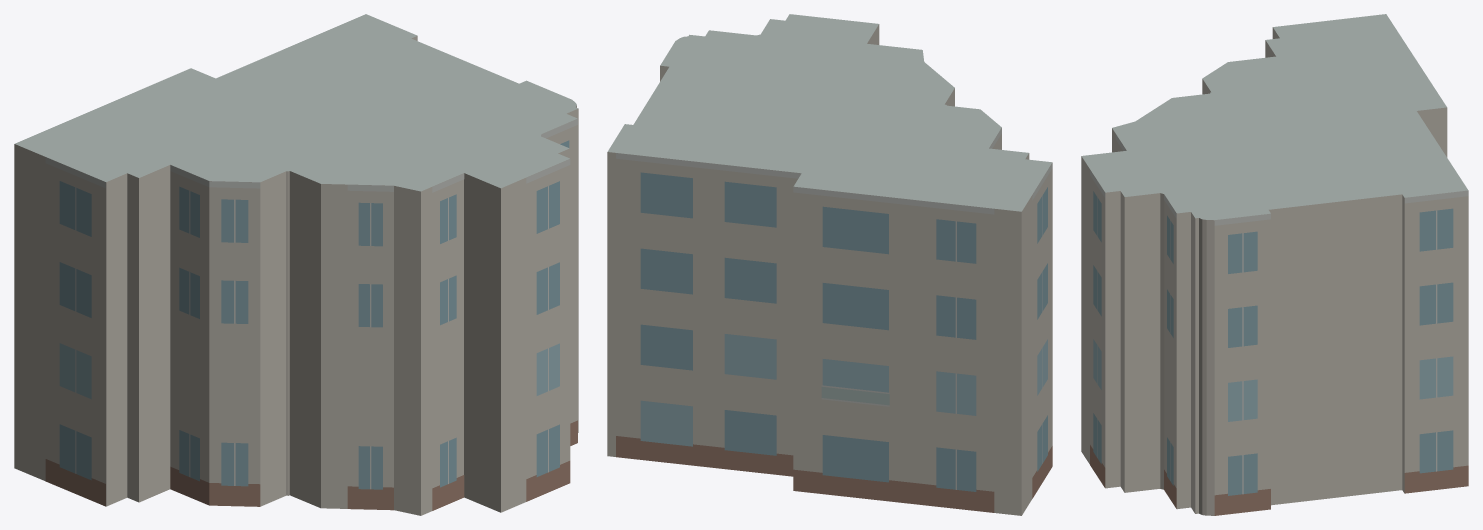
The model's file is survey-upis-32943985.glb.
The picture shows the model from 3 angles, left to right: view 1: azimuth 30°, elevation 25°; view 2: azimuth 150°, elevation 25°; view 3: azimuth 270°, elevation 25°; orthographic projection. The views are drawn at different scales.
Parts seen in each view (by area): view 1: survey-upis-32943985.tmp; view 2: survey-upis-32943985.tmp; view 3: survey-upis-32943985.tmp.
Boxes of the visible parts, x1,y1,x2,y2 form: survey-upis-32943985.tmp: [14, 14, 578, 515]; survey-upis-32943985.tmp: [607, 14, 1052, 515]; survey-upis-32943985.tmp: [1081, 14, 1468, 515].
Size of the model in its own units: 18.95 by 12.67 by 15.03.
